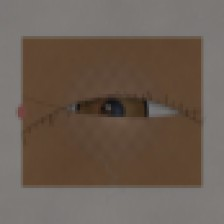foreign_body_visible: (83, 91, 126, 126)
